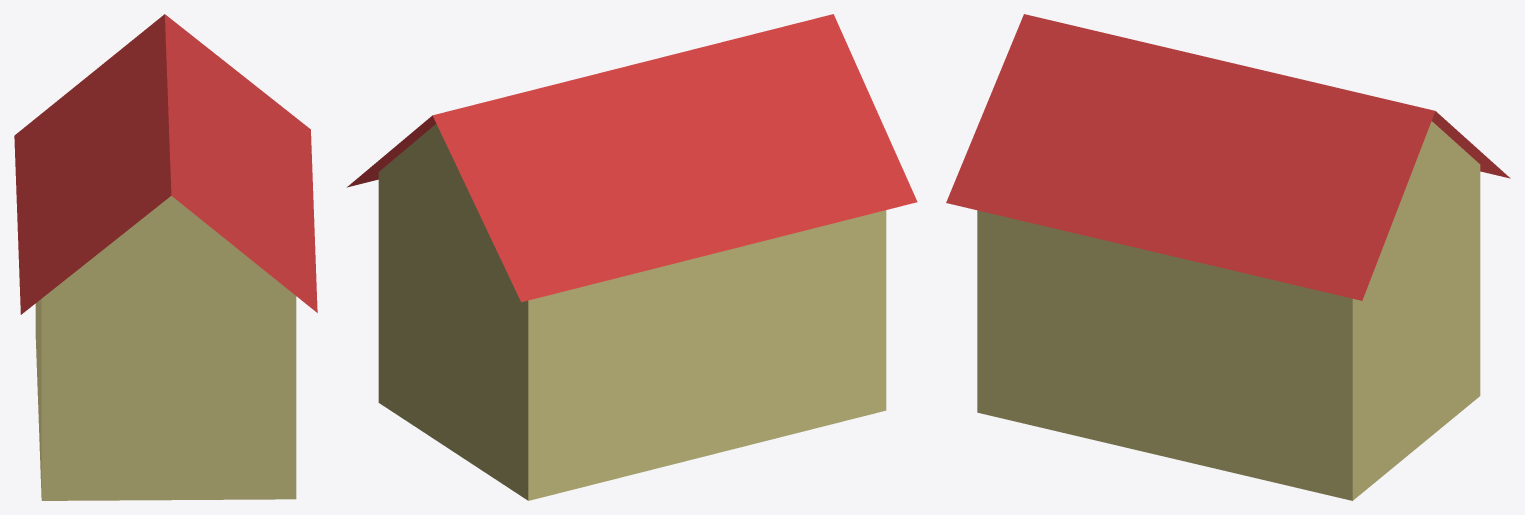
3 views of the same model, side by side, from view 1: azimuth 30°, elevation 25°; view 2: azimuth 150°, elevation 25°; view 3: azimuth 270°, elevation 25° (orthographic). The views are drawn at different scales.
Size of the model in its own units: 16.74 by 18.33 by 12.29.
